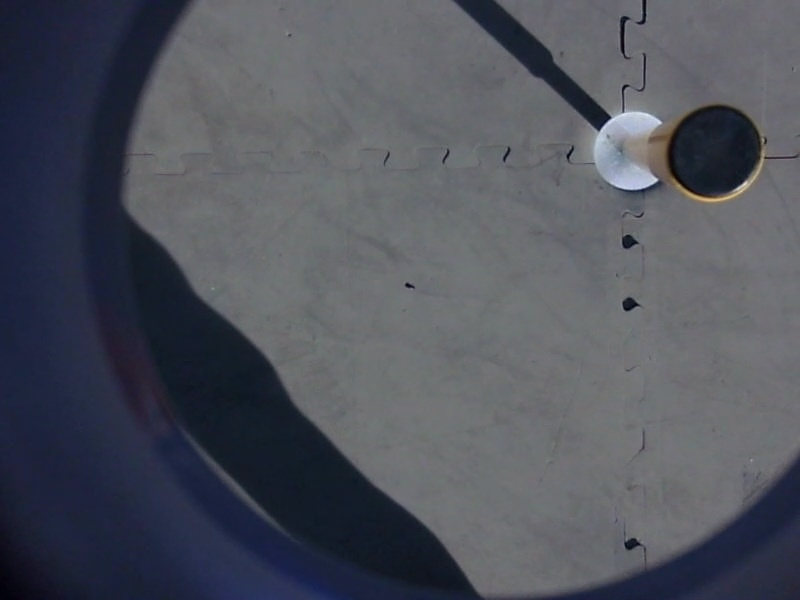tip: (660, 99, 771, 207)
